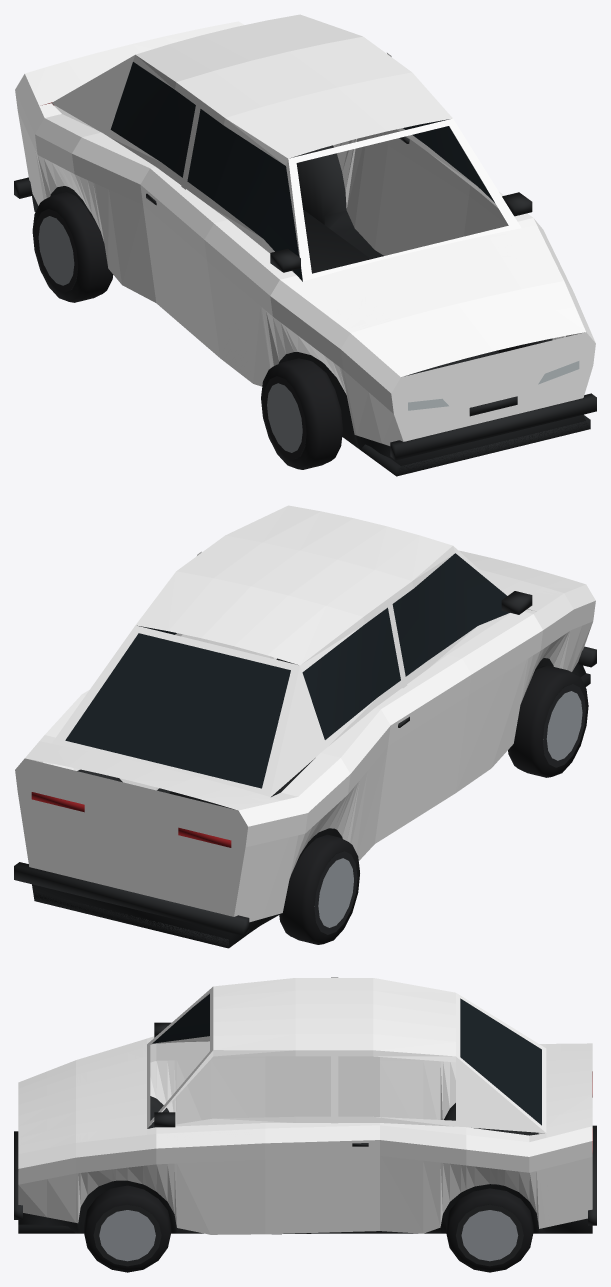
Rendered from volnar_caju.glb.
3 renders of one model, top to bottom at view 1: azimuth 30°, elevation 25°; view 2: azimuth 150°, elevation 25°; view 3: azimuth 270°, elevation 25°, orthographic. The views are drawn at different scales.
Parts seen in each view (by area): view 1: Body_Paint, Body_Details, Mount_FrontLeft_Wheel_Details, Mount_RearLeft_Wheel_Details; view 2: Body_Paint, Body_Details, Mount_FrontLeft_Wheel_Details, Mount_RearLeft_Wheel_Details; view 3: Body_Paint, Body_Details, Mount_FrontRight_Wheel_Details, Mount_RearRight_Wheel_Details.
Boxes of the visible parts, x1,y1,x2,y2 form: Body_Paint: [15, 14, 595, 445]; Body_Details: [14, 62, 596, 476]; Mount_FrontLeft_Wheel_Details: [261, 358, 342, 469]; Mount_RearLeft_Wheel_Details: [32, 192, 113, 302]; Body_Paint: [15, 505, 595, 922]; Body_Details: [14, 553, 596, 948]; Mount_FrontLeft_Wheel_Details: [508, 665, 588, 777]; Mount_RearLeft_Wheel_Details: [279, 834, 359, 944]; Body_Paint: [18, 977, 592, 1234]; Body_Details: [14, 994, 596, 1234]; Mount_FrontRight_Wheel_Details: [84, 1185, 171, 1272]; Mount_RearRight_Wheel_Details: [446, 1188, 533, 1272].
Size of the model in its own units: 1.58 by 1.43 by 3.61.
Materials: 2 (1 with a texture image).
